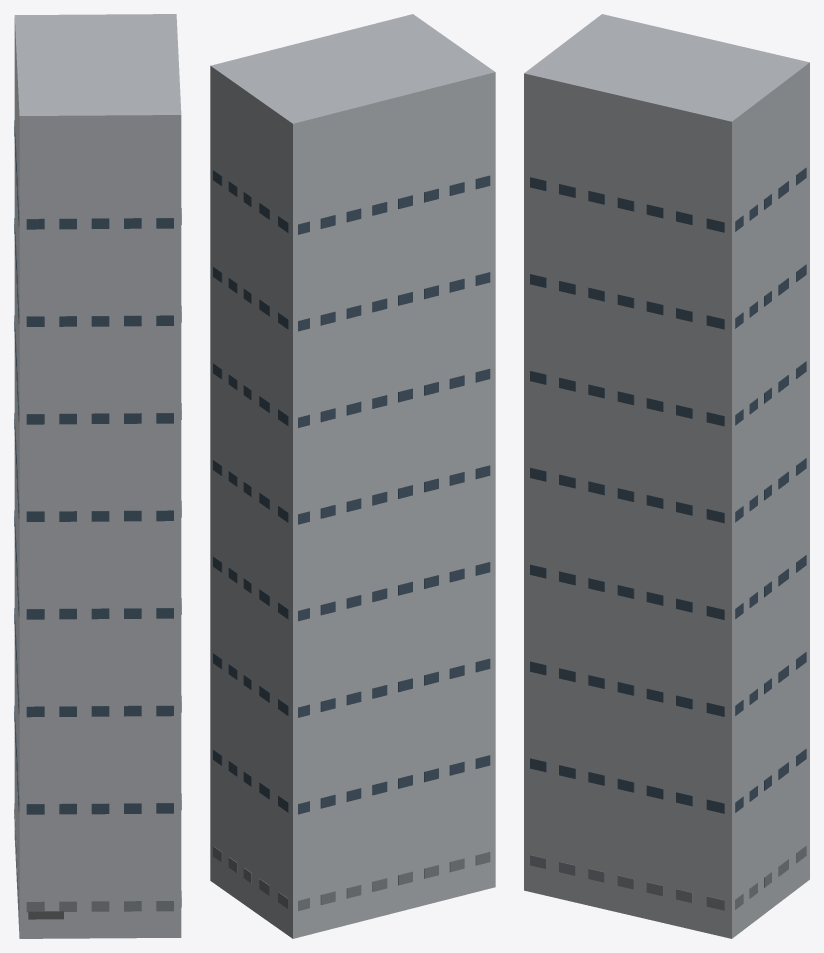
Rendered from doitt-982383__lod_0.glb.
3 views of the same model, side by side, from view 1: azimuth 30°, elevation 25°; view 2: azimuth 150°, elevation 25°; view 3: azimuth 270°, elevation 25° (orthographic).
Visible parts, largest first — view 1: doitt:982383__lod_0__estimated_mass; view 2: doitt:982383__lod_0__estimated_mass; view 3: doitt:982383__lod_0__estimated_mass.
Part boxes in pixels (x1=…): doitt:982383__lod_0__estimated_mass: x1=14, y1=14, x2=181, y2=938; doitt:982383__lod_0__estimated_mass: x1=210, y1=14, x2=495, y2=938; doitt:982383__lod_0__estimated_mass: x1=524, y1=14, x2=809, y2=938.
Size of the model in its own units: 32.72 by 116 by 36.68.
